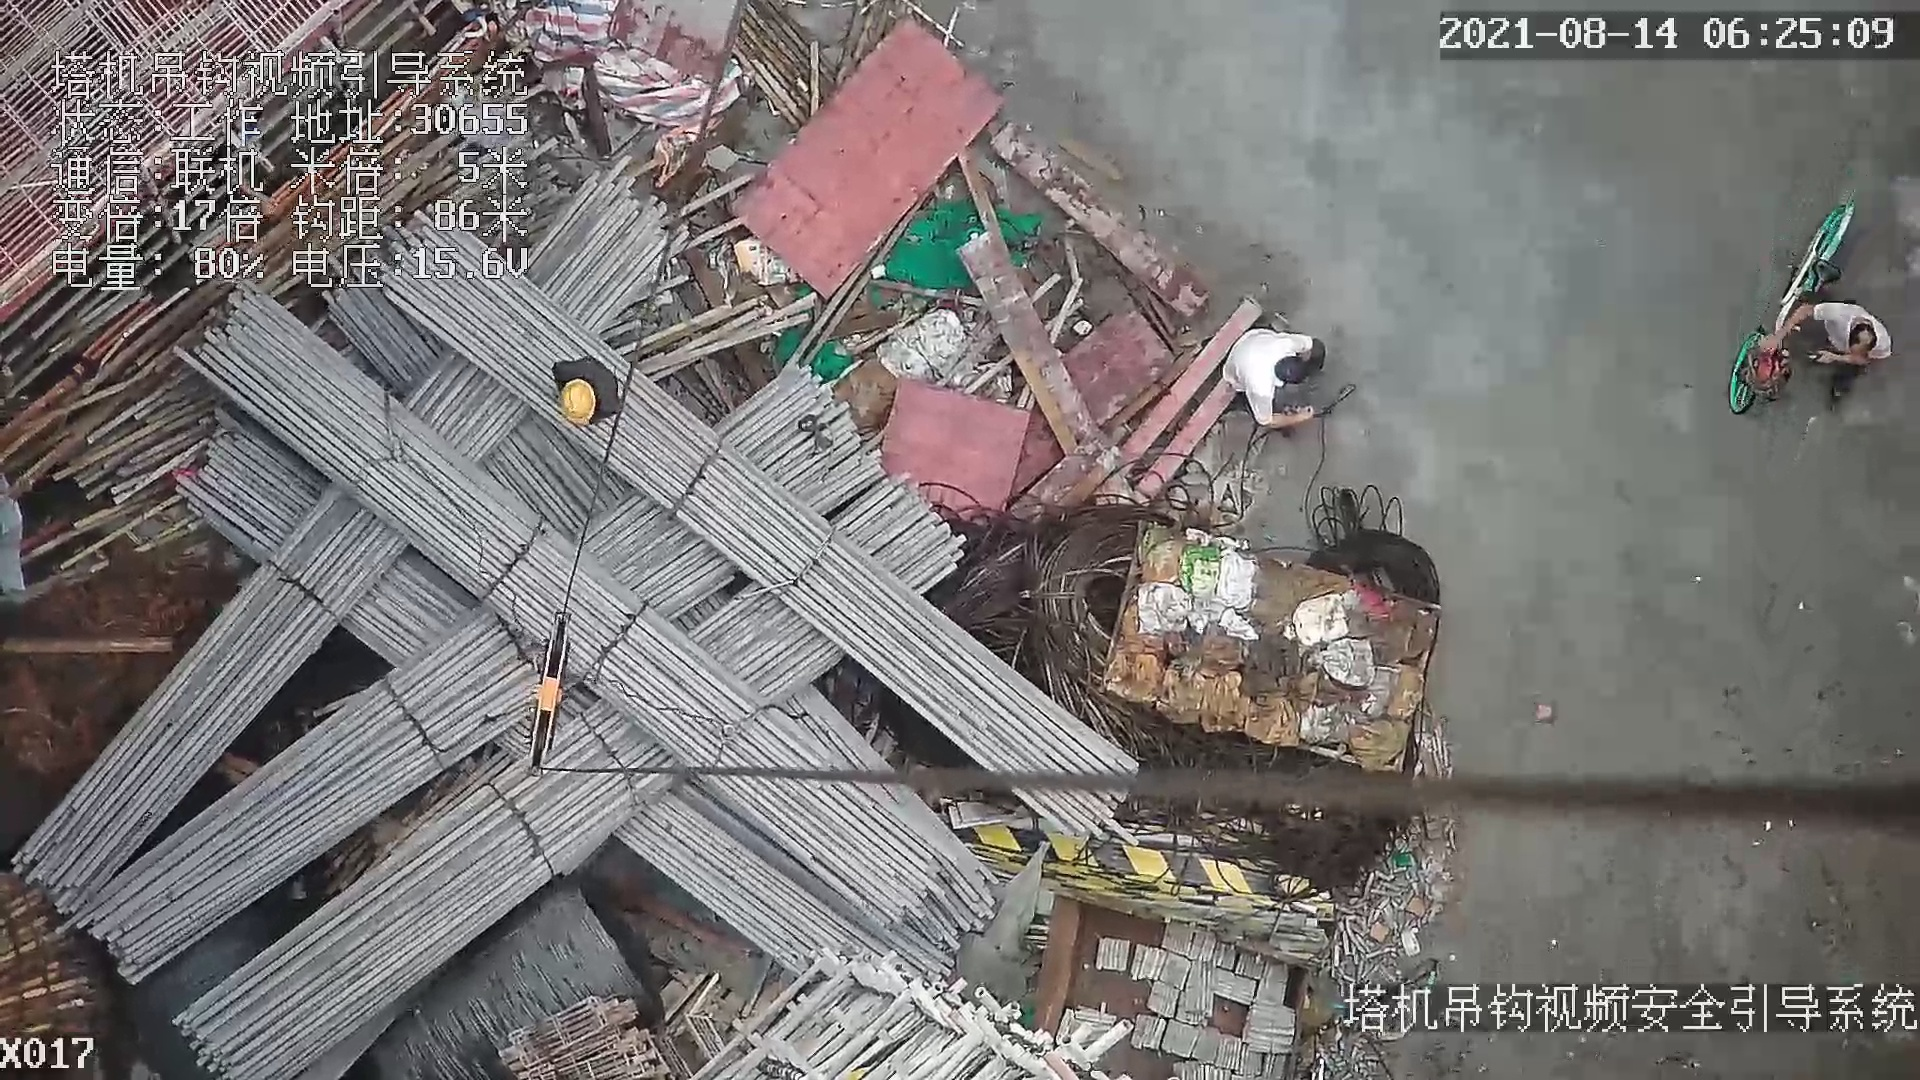helmet: (560, 377, 597, 427)
hook: (514, 609, 570, 780)
person: (1753, 297, 1890, 403), (1214, 317, 1328, 432), (545, 350, 626, 422)
